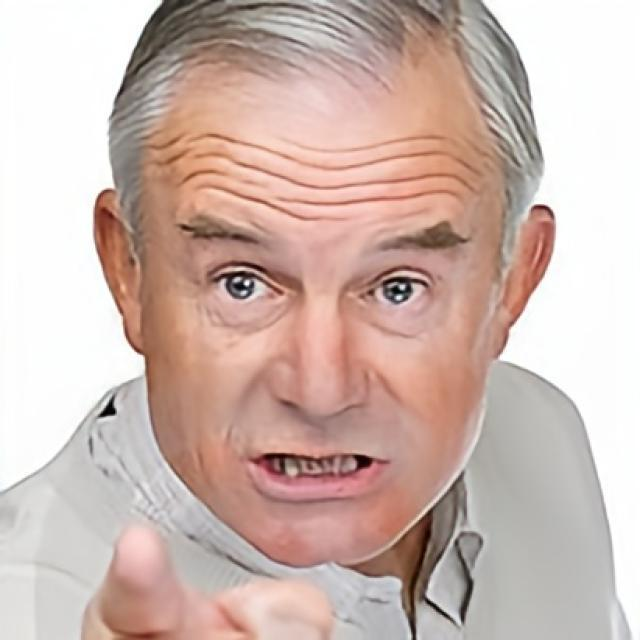surprise: (142, 53, 490, 571)
